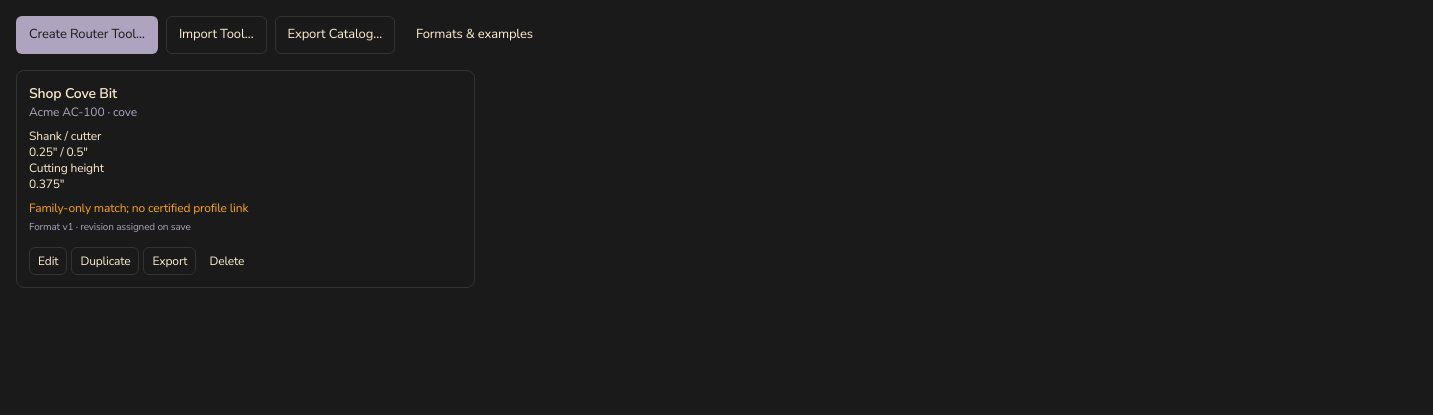
Test: RouterToolsTab › reports a malformed import instead of adding it
Click the button "Import Tool…" at (216, 35), box [166,16,267,54]
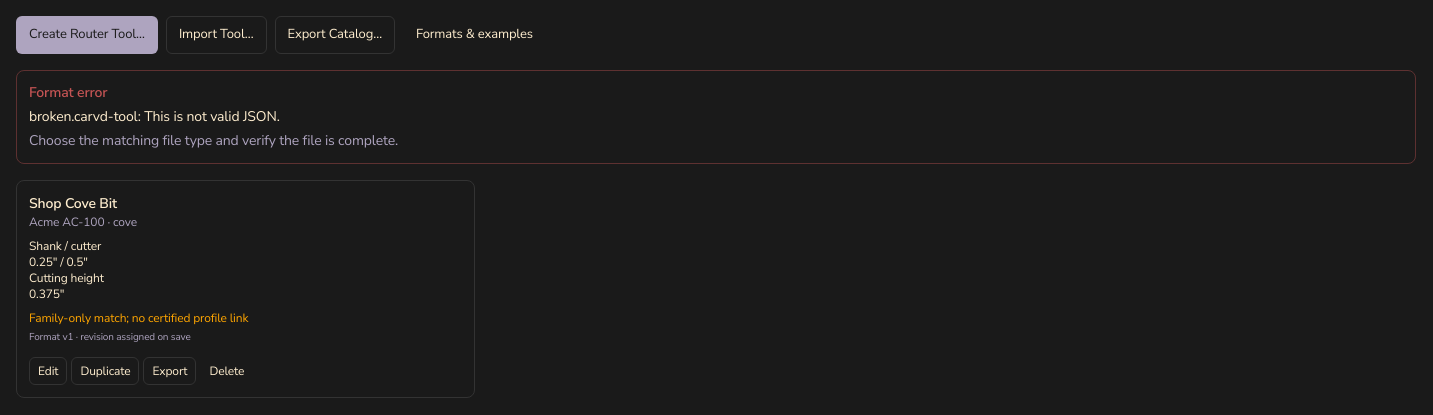
Now the text "broken.carvd-tool: This is not valid JSON." is shown, box [29,106,280,126]
